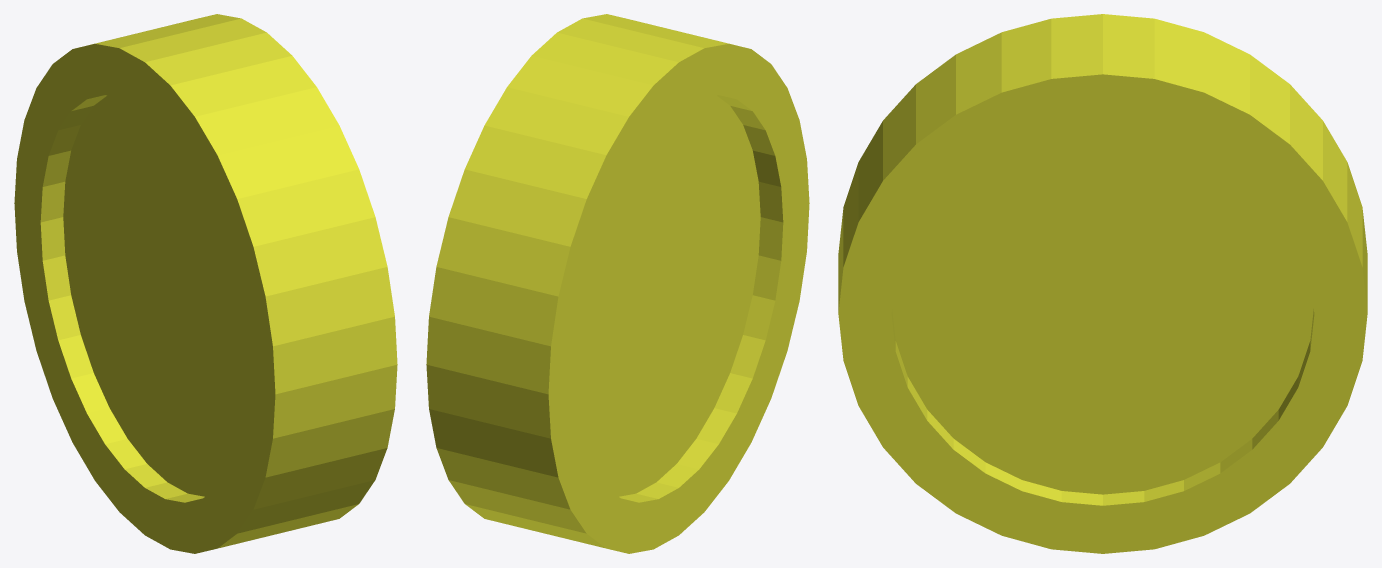
Rendered from Gold.fbx.
The picture shows the model from 3 angles, left to right: view 1: azimuth 30°, elevation 25°; view 2: azimuth 150°, elevation 25°; view 3: azimuth 270°, elevation 25°; orthographic projection.
Parts seen in each view (by area): view 1: Cylinder.002; view 2: Cylinder.002; view 3: Cylinder.002.
Boxes of the visible parts, x1,y1,x2,y2 form: Cylinder.002: (14,14,397,553); Cylinder.002: (426,14,809,553); Cylinder.002: (838,14,1367,553).
Bounding box in the file's own units: 54 × 200 × 200.
